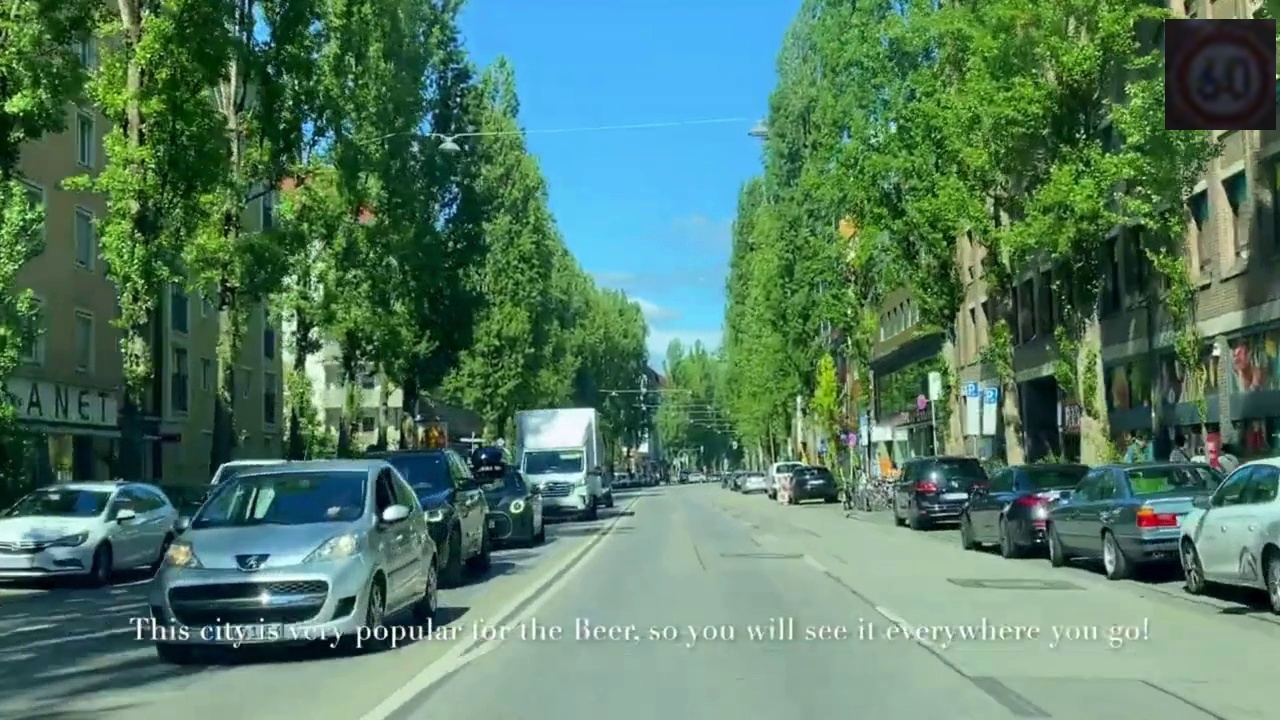Speed 60: (1165, 19, 1276, 130)
